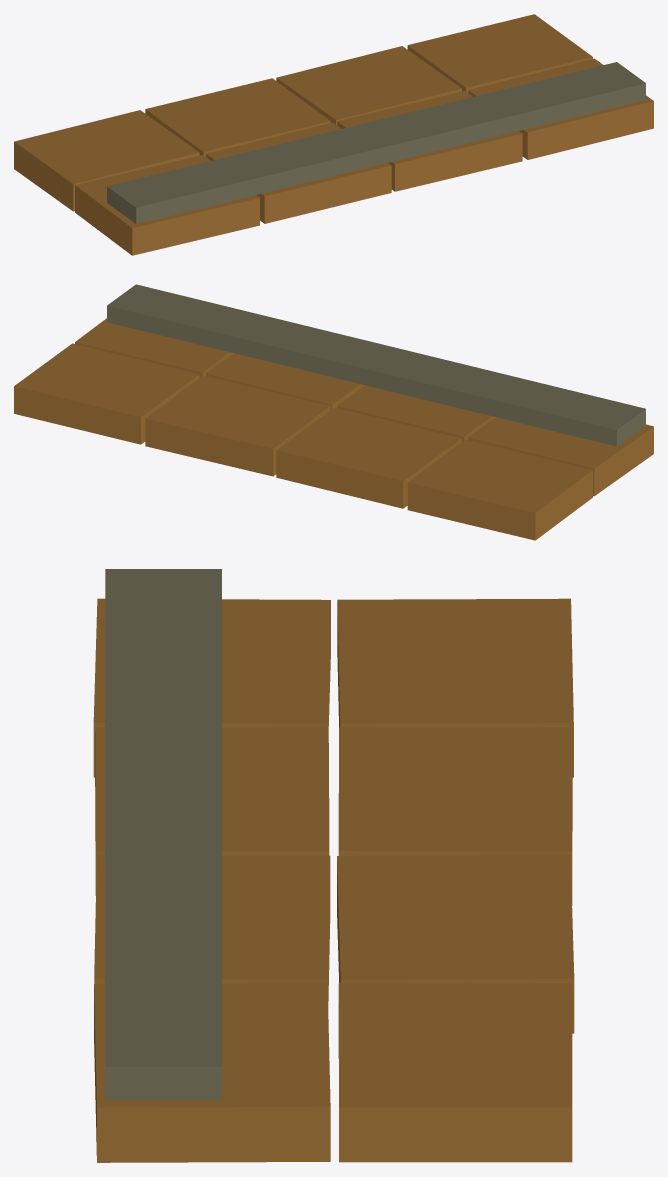
The model's file is SM_Banqueta_v0_LOD1.fbx.
The picture shows the model from 3 angles, top to bottom: view 1: azimuth 30°, elevation 25°; view 2: azimuth 150°, elevation 25°; view 3: azimuth 270°, elevation 25°; orthographic projection. The views are drawn at different scales.
Parts seen in each view (by area): view 1: SM_banqueta_tiro_v0_LOD1; view 2: SM_banqueta_tiro_v0_LOD1; view 3: SM_banqueta_tiro_v0_LOD1.
Boxes of the visible parts, left/top/right/bottom form: SM_banqueta_tiro_v0_LOD1: left=14, top=14, right=653, bottom=255; SM_banqueta_tiro_v0_LOD1: left=14, top=284, right=653, bottom=540; SM_banqueta_tiro_v0_LOD1: left=93, top=569, right=574, bottom=1162.
Bounding box in the file's own units: 4.95 × 0.41 × 1.98.
